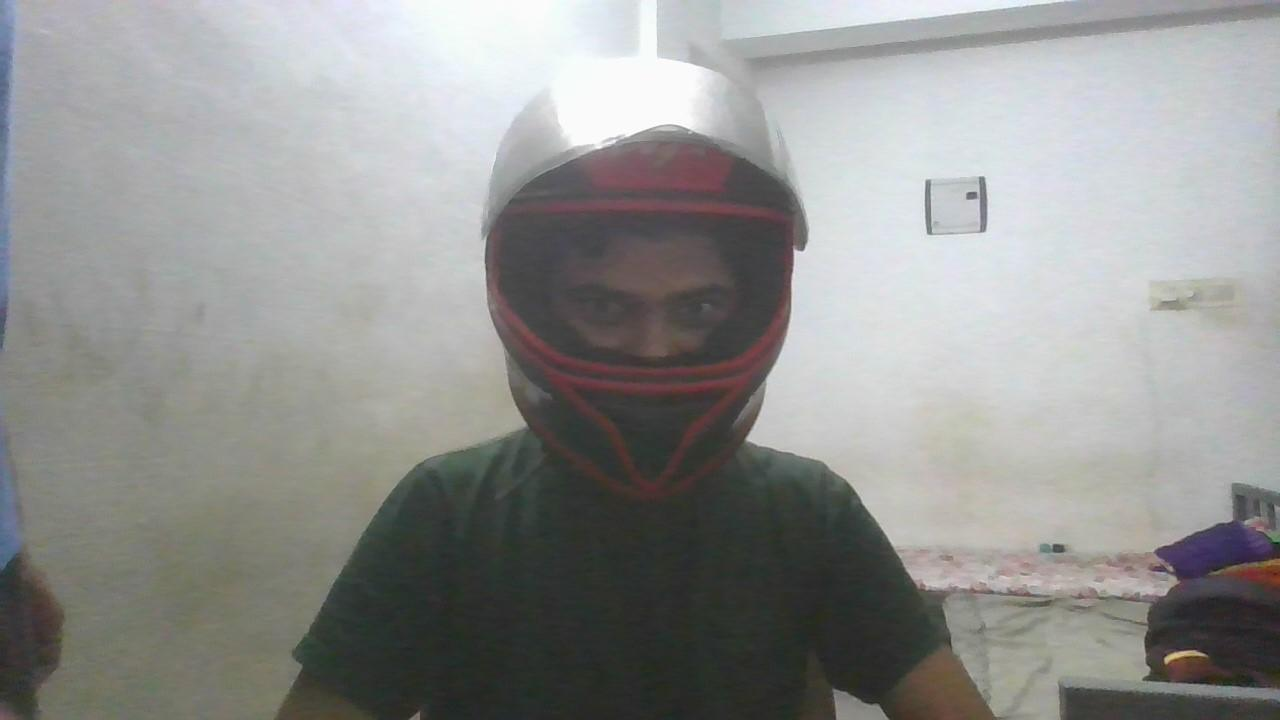helmet: (480, 55, 809, 509)
